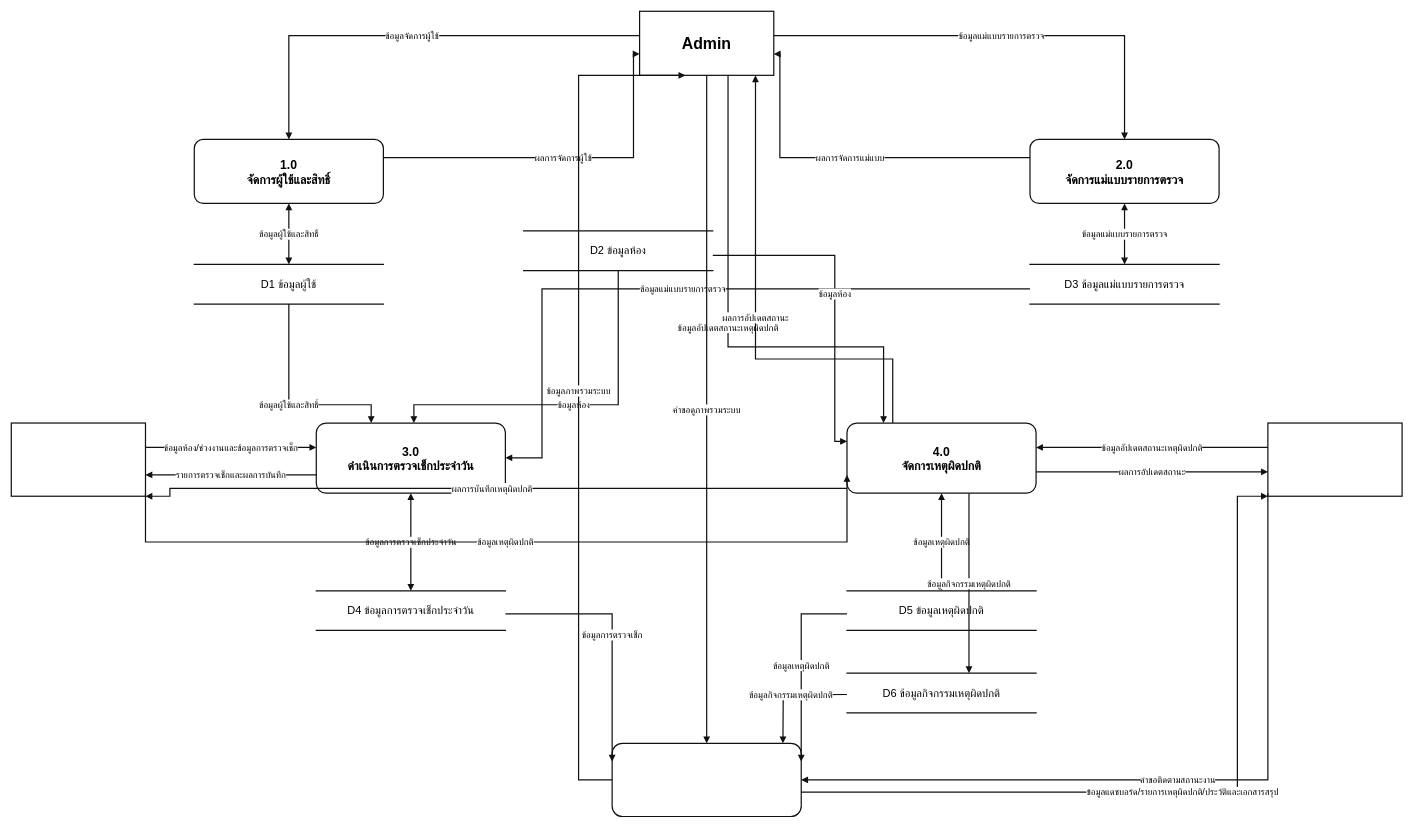
This 1413x827 diagram has some shape labels left out. The shapes that lost their labels are listed below. From the top down, each one's centre as x and y in pixels, then its label:
(x=78, y=459): Staff
(x=1334, y=459): Supervisor
(x=706, y=779): 5.0 ติดตามภาพรวมและทบทวนประวัติ
